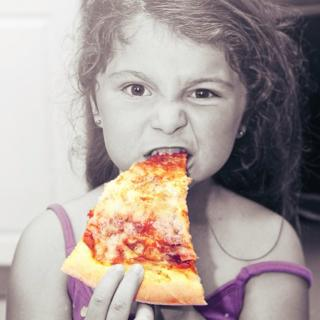Pizza: (70, 159, 204, 300)
